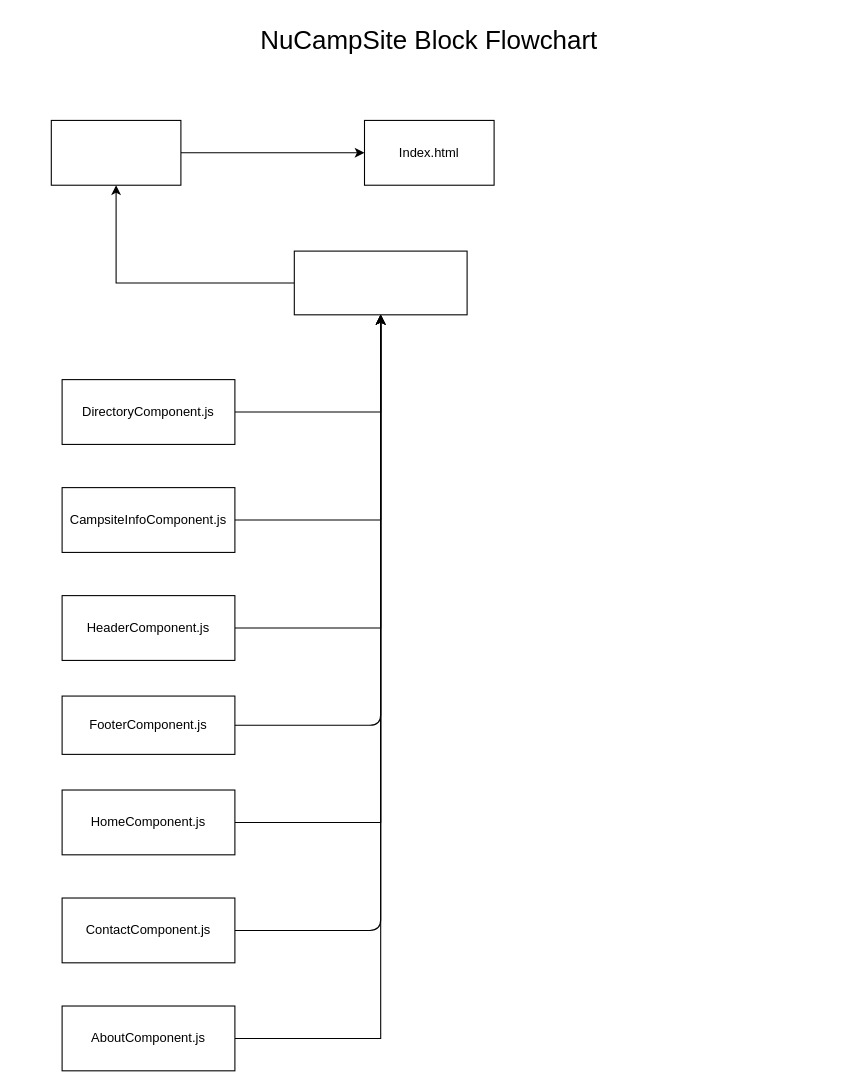
The diagram is 858 pixels wide and 1090 high, and some of its shapes have lost their labels. The box of each missing label's shape, as (x1, y1, x2, y2) in pixels:
App.js: (50, 119, 181, 185)
MainComponent.js: (293, 250, 467, 315)
